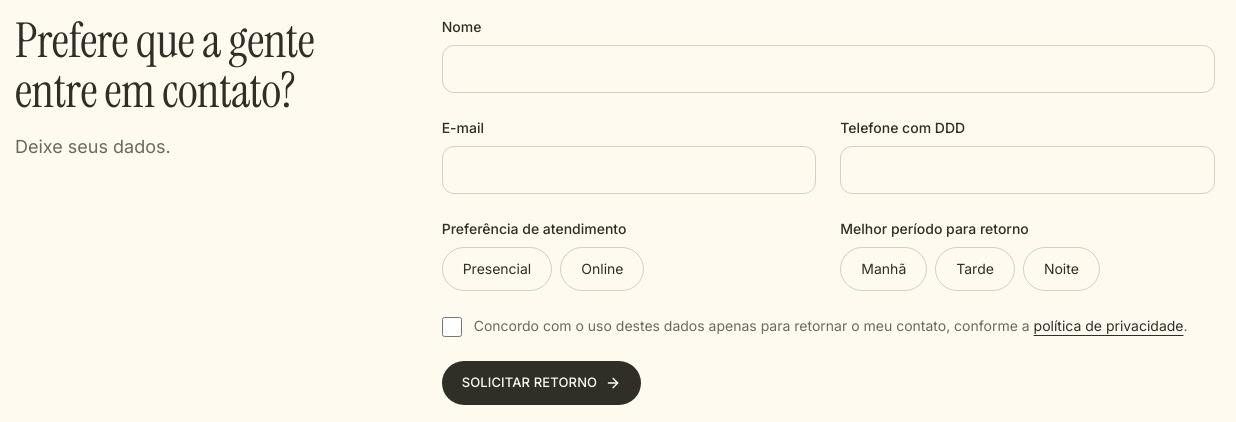
ContactSection › posts the data with anti-spam fields and confirms
Type "Ana Souza" into the field labelled "Nome".
click(828, 69); type("Ana Souza")  # box [442, 45, 1215, 93]
Type "ana@exemplo.com" into the field labelled "E-mail".
click(629, 170); type("ana@exemplo.com")  # box [442, 146, 816, 194]
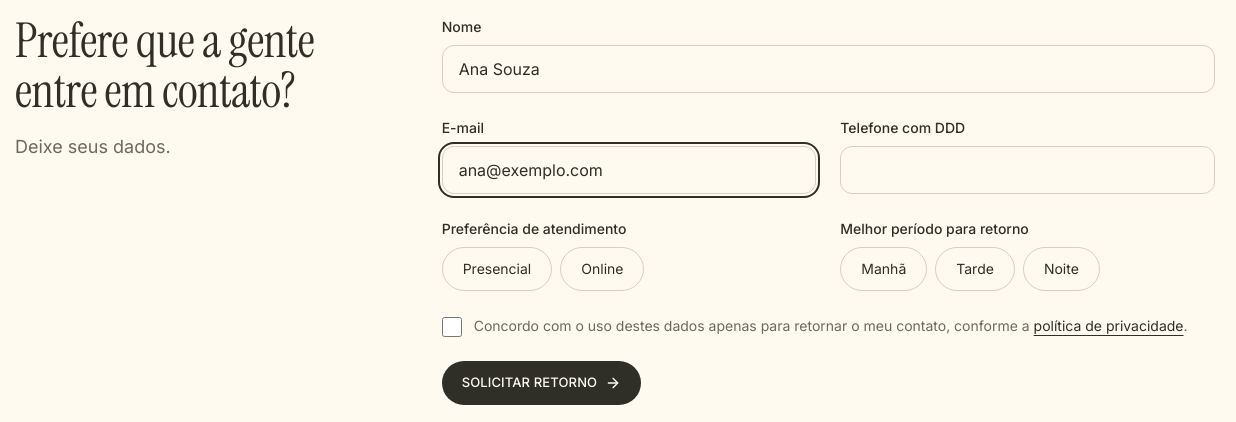
Type "11912345678" into the field labelled "Telefone com DDD".
click(1028, 170); type("11912345678")  # box [840, 146, 1215, 194]
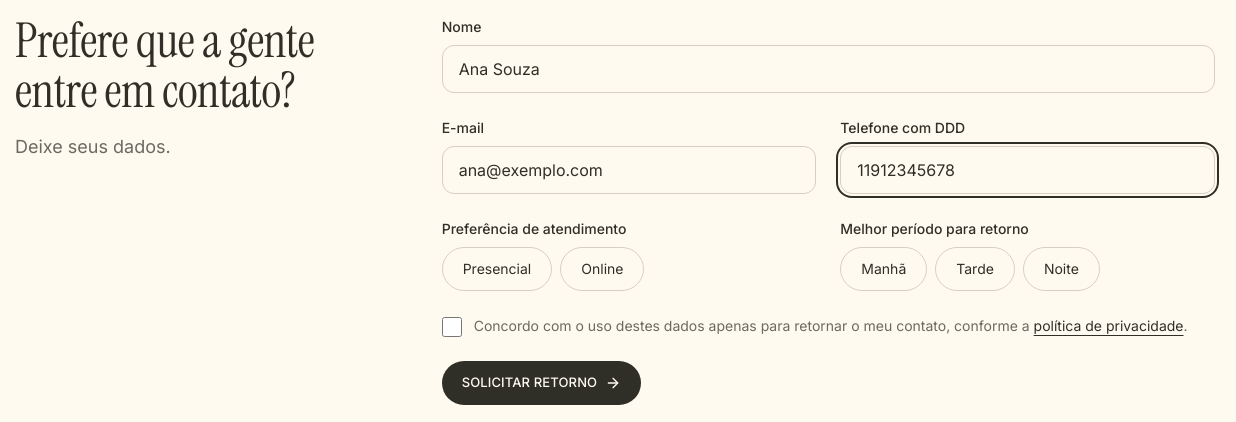
Click the radio button labelled "Online".
click(602, 269)  # box [560, 247, 644, 291]
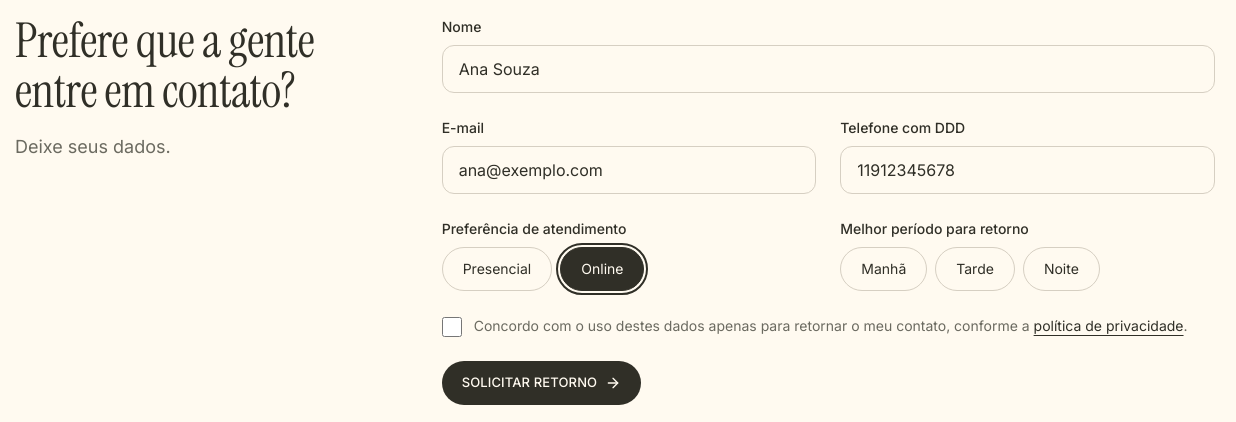
Click the radio button labelled "Tarde".
click(975, 269)  # box [935, 247, 1015, 291]
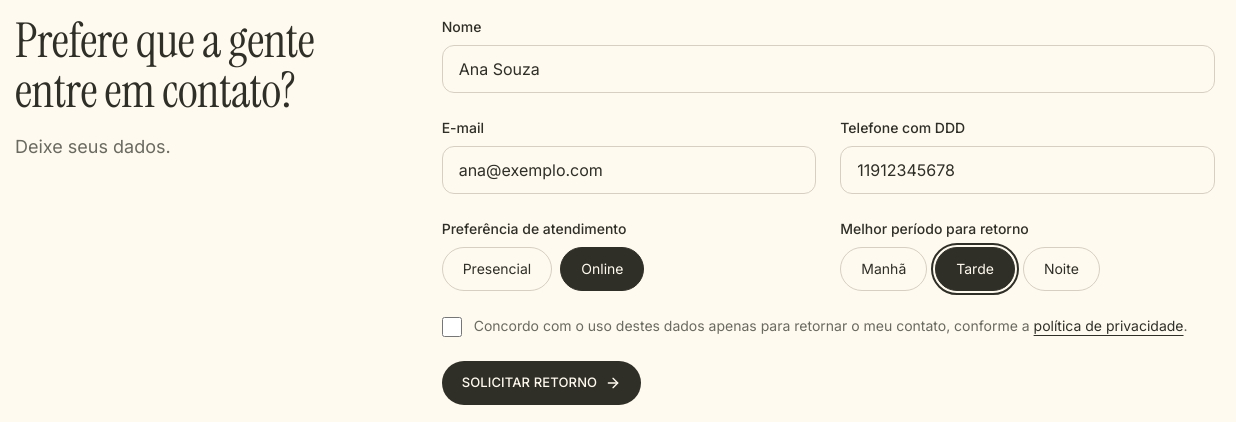
Click the checkbox.
click(452, 327)  # box [442, 317, 462, 337]
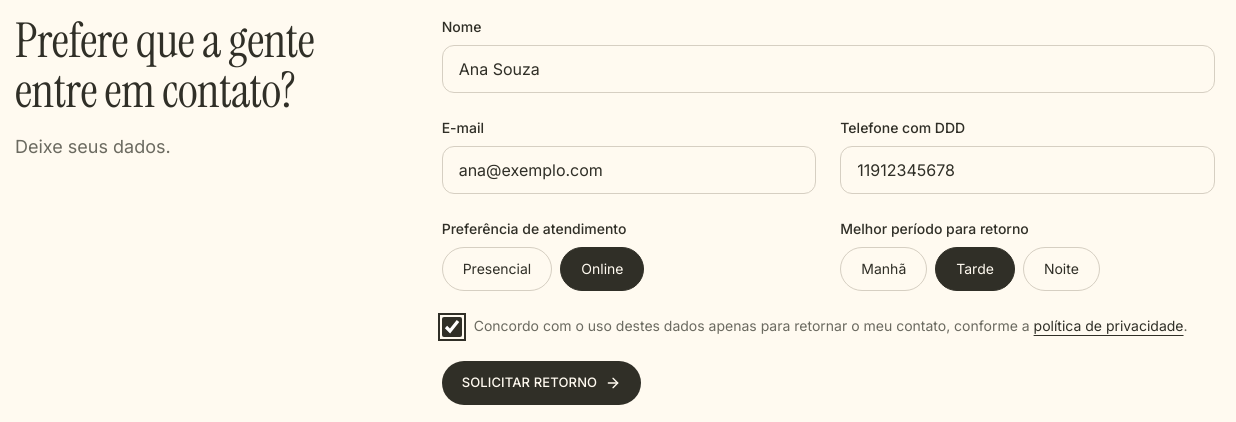
Click the button "Solicitar retorno".
click(542, 383)  # box [442, 361, 641, 405]
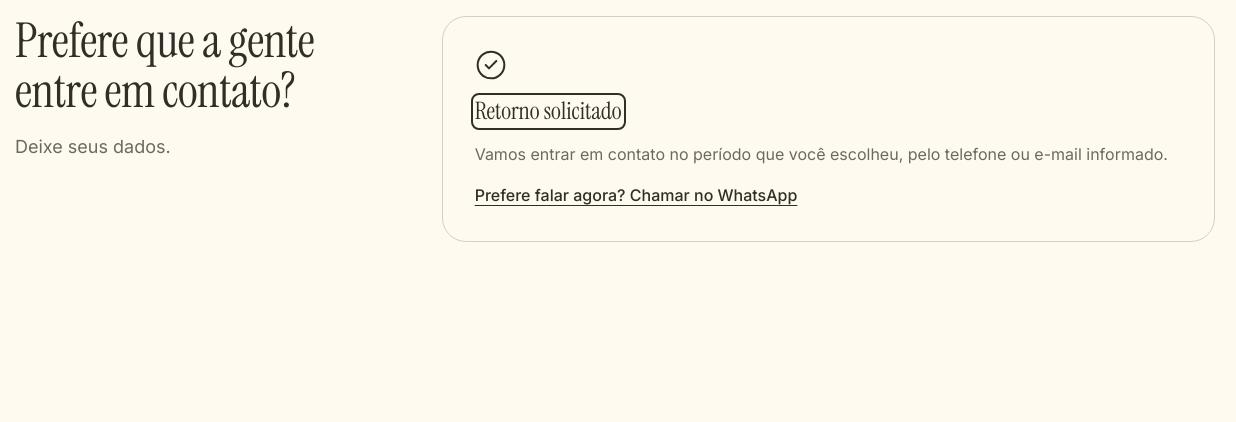
Expected: the message shows "Retorno solicitado", [475, 95, 622, 126]
